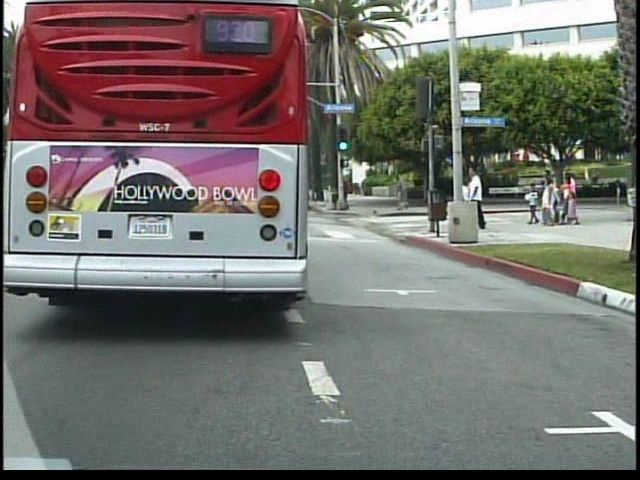person: (465, 161, 490, 231), (456, 172, 478, 227), (393, 172, 412, 213)
